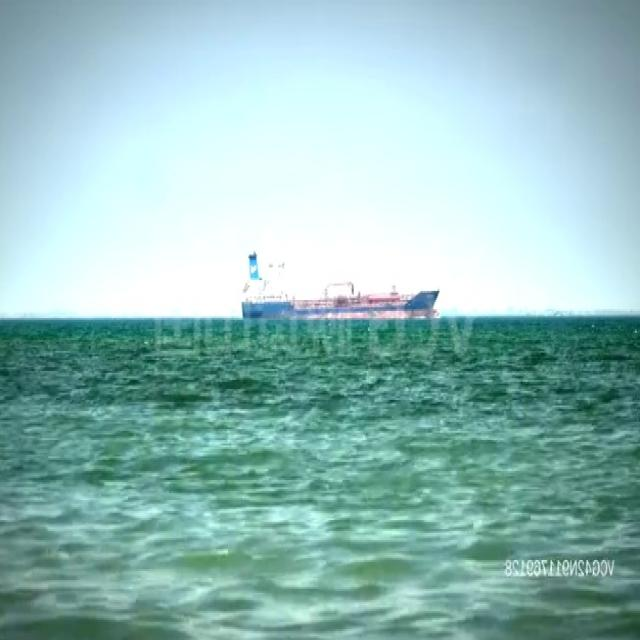cargoship: (244, 233, 444, 325)
